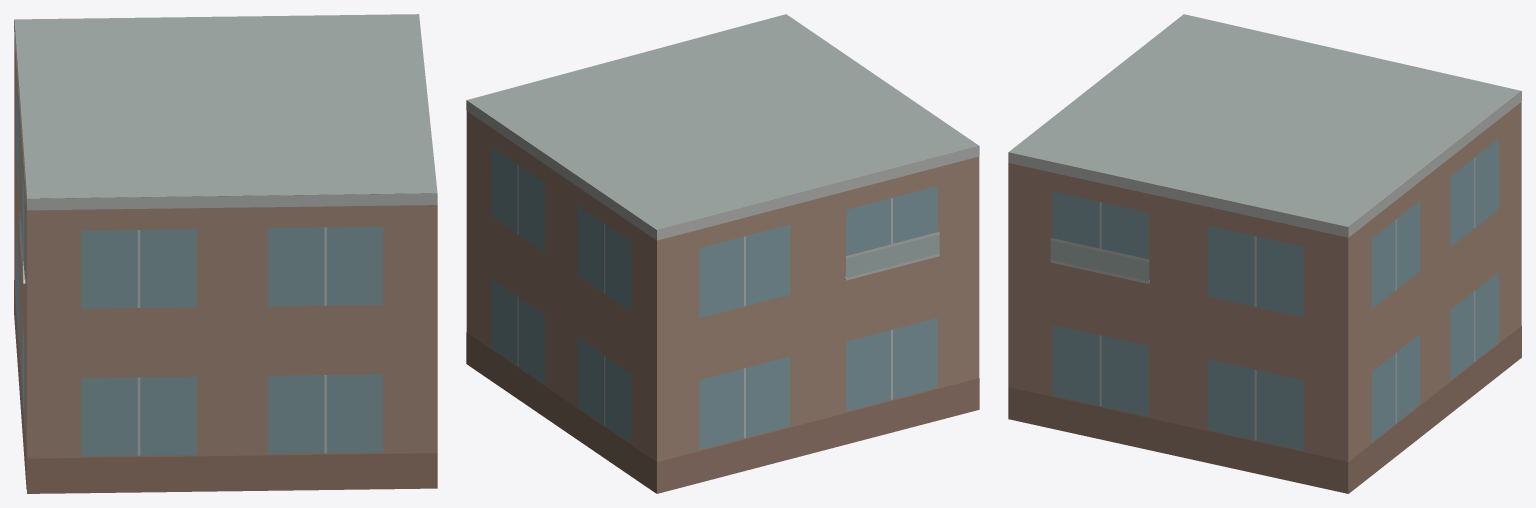
File: survey-upis-32664009.glb
The picture shows the model from 3 angles, left to right: view 1: azimuth 30°, elevation 25°; view 2: azimuth 150°, elevation 25°; view 3: azimuth 270°, elevation 25°; orthographic projection. The views are drawn at different scales.
Visible parts, largest first — view 1: survey-upis-32664009.tmp; view 2: survey-upis-32664009.tmp; view 3: survey-upis-32664009.tmp.
Boxes of the visible parts, x1=… form: survey-upis-32664009.tmp: x1=14, y1=14, x2=437, y2=493; survey-upis-32664009.tmp: x1=466, y1=14, x2=979, y2=493; survey-upis-32664009.tmp: x1=1008, y1=14, x2=1521, y2=493.
Bounding box in the file's own units: 10.46 × 6.1 × 10.65.
